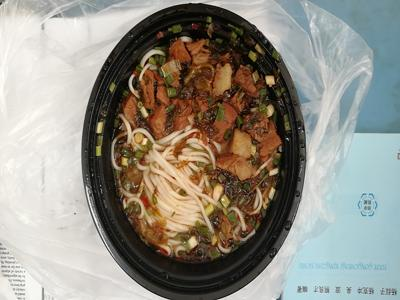nrm: (113, 39, 274, 263)
